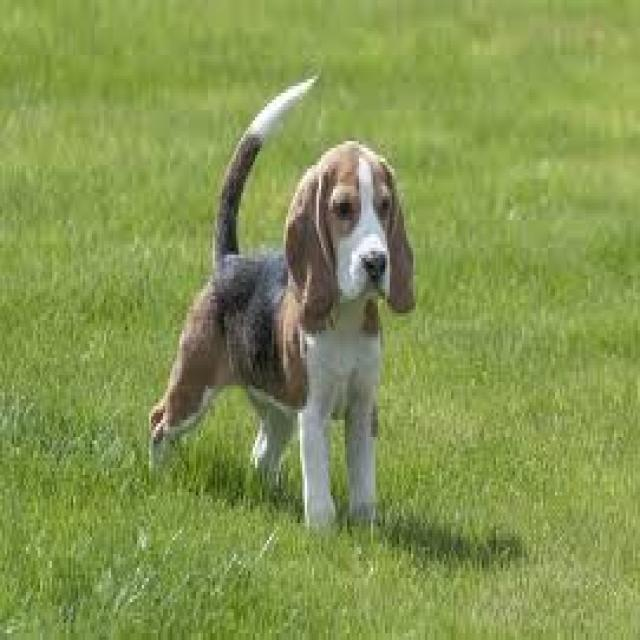Dog: (144, 68, 420, 540)
